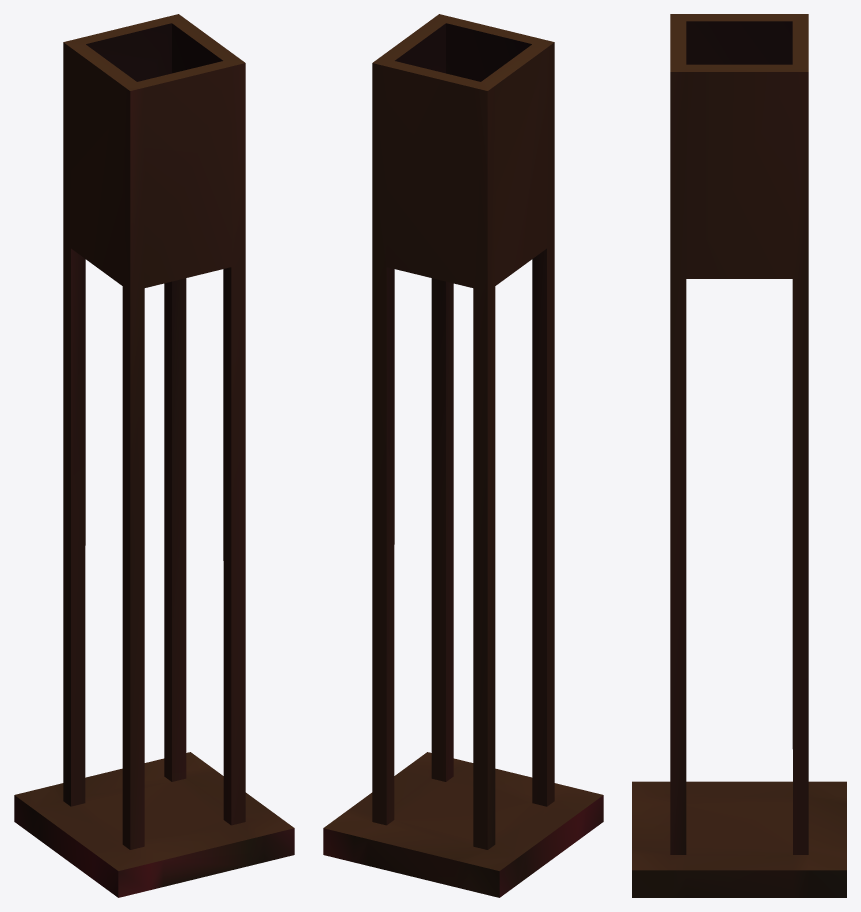
Rendered from brown_standing_lamp.FBX.
3 views of the same model, side by side, from view 1: azimuth 30°, elevation 25°; view 2: azimuth 150°, elevation 25°; view 3: azimuth 270°, elevation 25° (orthographic). The views are drawn at different scales.
Visible parts, largest first — view 1: brown standing lamp; view 2: brown standing lamp; view 3: brown standing lamp.
Part boxes in pixels (left/top/right/bottom): brown standing lamp: left=14, top=14, right=294, bottom=897; brown standing lamp: left=323, top=14, right=603, bottom=897; brown standing lamp: left=632, top=14, right=846, bottom=897.
Bounding box in the file's own units: 0.4541 × 1.93 × 0.4645.
